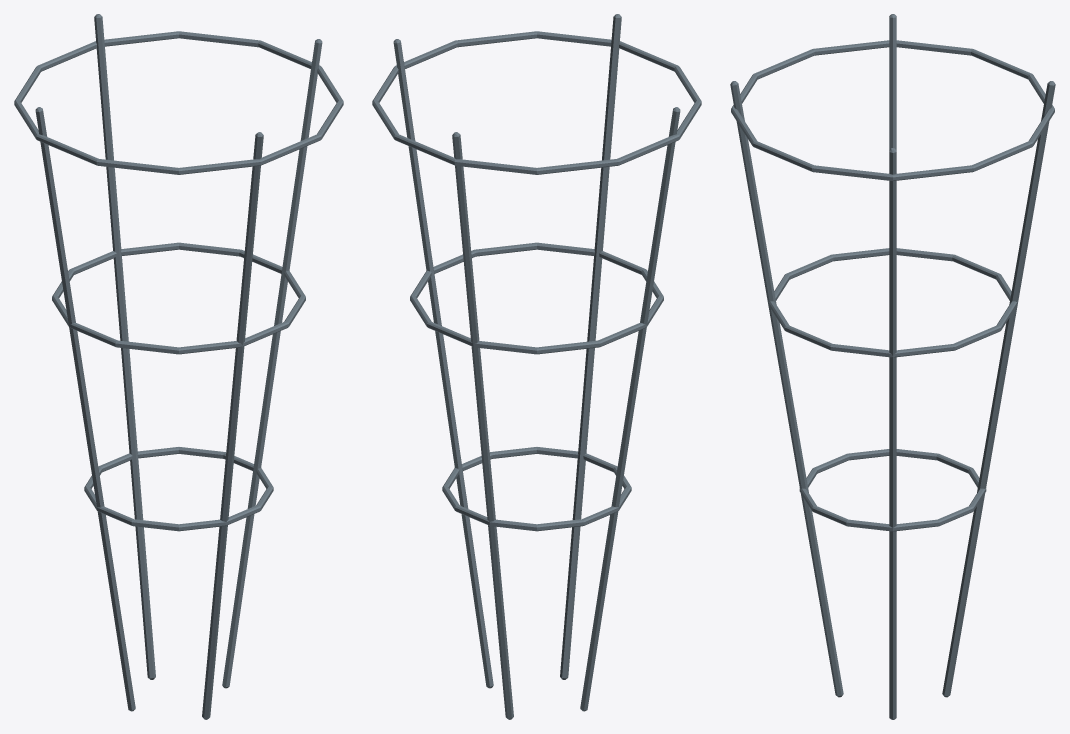
The model's file is b11_wire_tomato_cage.glb.
3 views of the same model, side by side, from view 1: azimuth 30°, elevation 25°; view 2: azimuth 150°, elevation 25°; view 3: azimuth 270°, elevation 25° (orthographic).
Parts seen in each view (by area): view 1: b11_wire_tomato_cage; view 2: b11_wire_tomato_cage; view 3: b11_wire_tomato_cage.
Boxes of the visible parts, bbox=[...] form: b11_wire_tomato_cage: bbox=[14, 14, 343, 719]; b11_wire_tomato_cage: bbox=[372, 14, 701, 719]; b11_wire_tomato_cage: bbox=[730, 14, 1055, 719].
Bounding box in the file's own units: 0.614 × 1.28 × 0.614.
